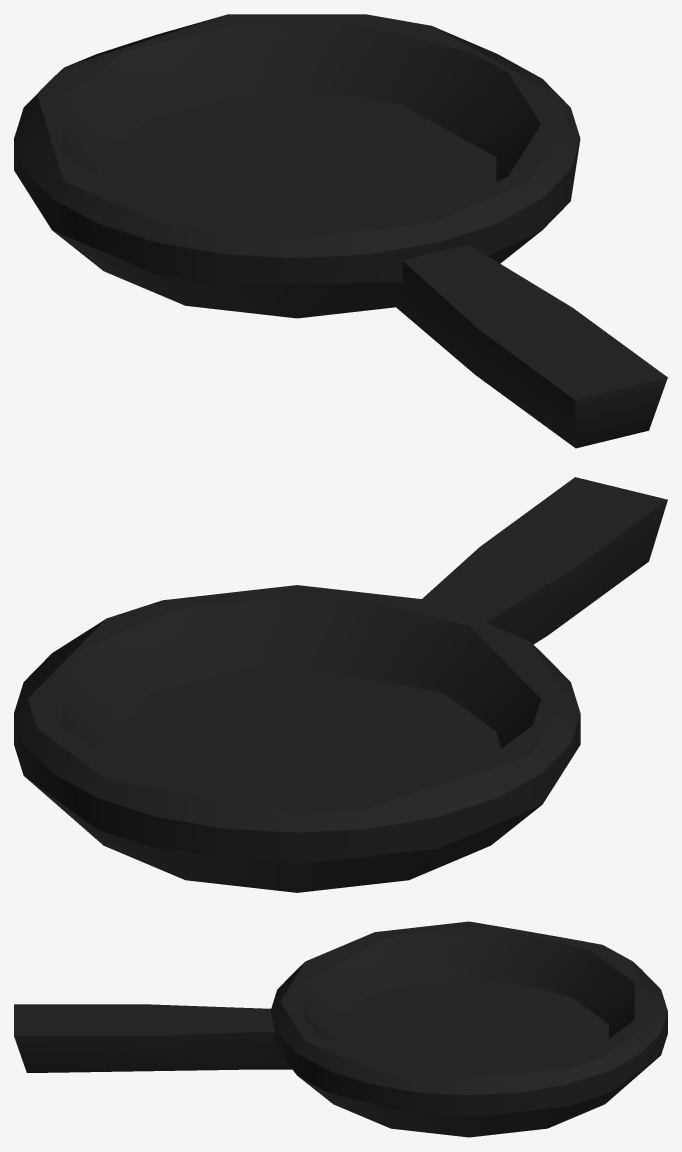
File: cc0-pan-lod1.glb
3 renders of one model, top to bottom at view 1: azimuth 30°, elevation 25°; view 2: azimuth 150°, elevation 25°; view 3: azimuth 270°, elevation 25°, orthographic. The views are drawn at different scales.
Parts seen in each view (by area): view 1: part_0; view 2: part_0; view 3: part_0.
Boxes of the visible parts, x1=… form: part_0: x1=14, y1=14, x2=667, y2=448; part_0: x1=14, y1=477, x2=667, y2=892; part_0: x1=14, y1=921, x2=667, y2=1137.
Size of the model in its own units: 1.25 by 0.2428 by 2.06.
1 material, 1 textured.
